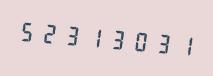five: (17, 12, 38, 49)
one: (171, 25, 192, 63), (83, 18, 104, 55)
three: (105, 19, 126, 57), (149, 23, 170, 61), (61, 16, 82, 53)
two: (39, 14, 60, 51)
zero: (127, 21, 148, 59)
